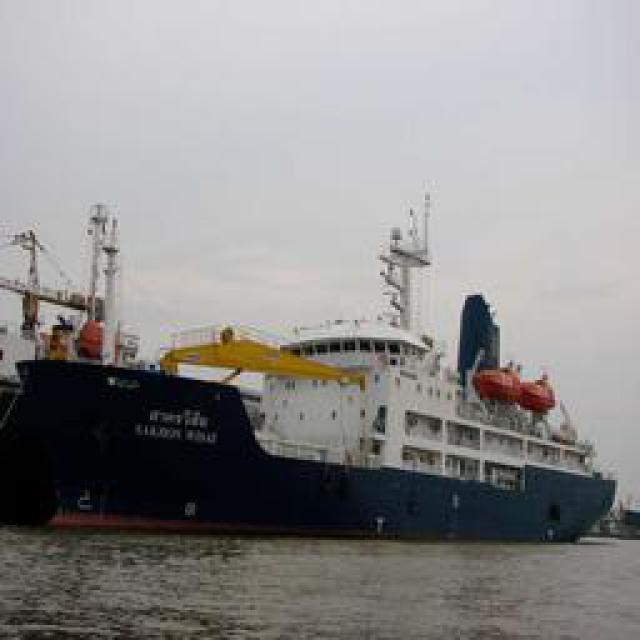Ship: (16, 324, 619, 547)
